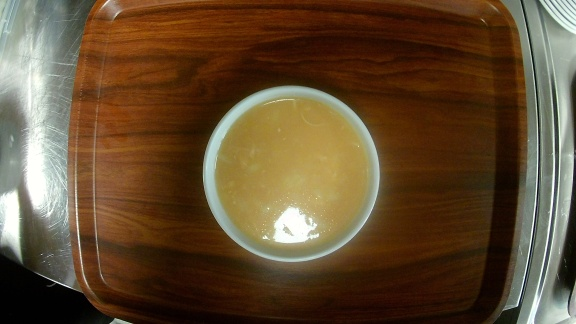tavukcorba: (199, 82, 383, 264)
